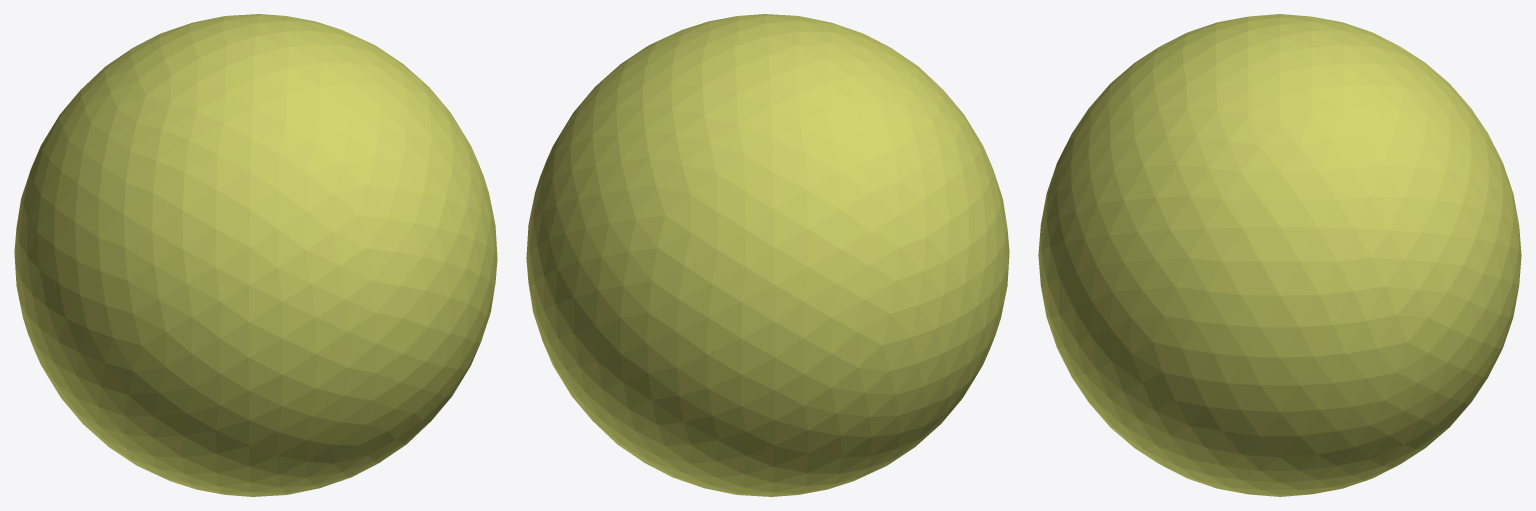
Rendered from demo-sphere.glb.
3 views of the same model, side by side, from view 1: azimuth 30°, elevation 25°; view 2: azimuth 150°, elevation 25°; view 3: azimuth 270°, elevation 25° (orthographic).
Parts seen in each view (by area): view 1: world; view 2: world; view 3: world.
Part boxes in pixels (box(x1,y1,x2,y2)): world: box(14, 14, 497, 496); world: box(526, 14, 1009, 496); world: box(1038, 14, 1521, 496).
Bounding box in the file's own units: 2 × 2 × 2.
